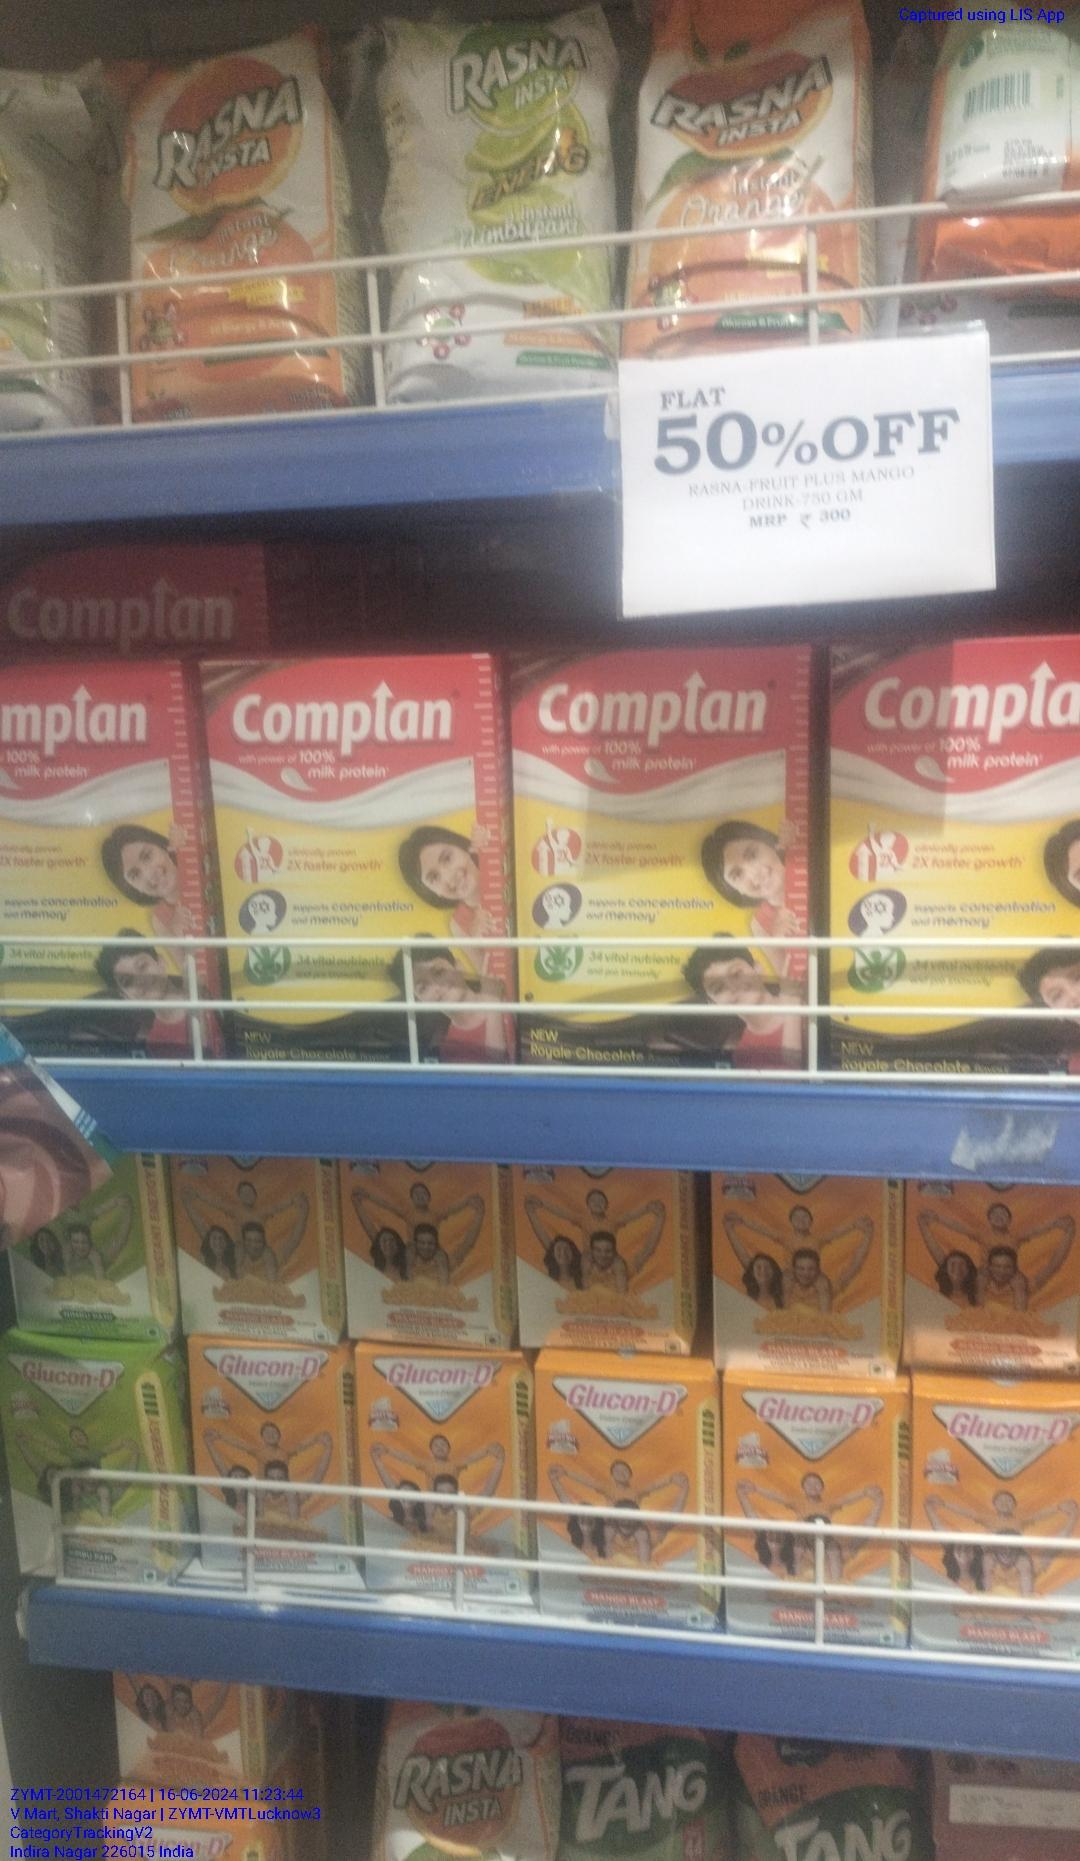COMPLAN_CHOCOLATE_200_GMS_PACK: (512, 663, 809, 1063), (213, 659, 490, 1065), (832, 650, 1080, 1080)
